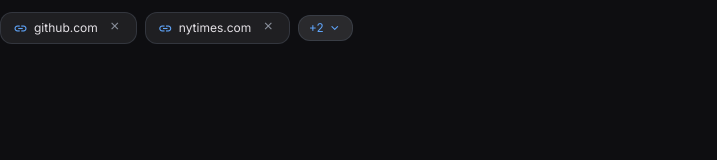
Test: AttachmentBar Component › expands all items when clicking '+N' overflow badge, and compacts back
The width and height of the screenshot is (717, 160).
// Click to expand all
Click the button with test id "attachment-overflow-pill" at (326, 28), box [298,15,353,41]
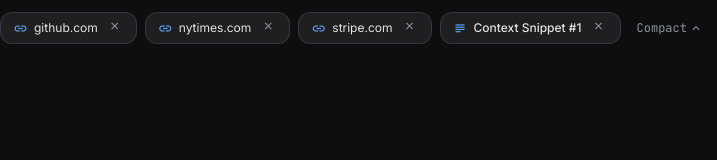
Expected: the button "stripe.com" is shown, [332,20,392,36]
Expected: the button "Context Snippet #1" is shown, [474,20,582,36]
// Click compact
Click the text "Compact" at (662, 28), box [636,20,687,36]
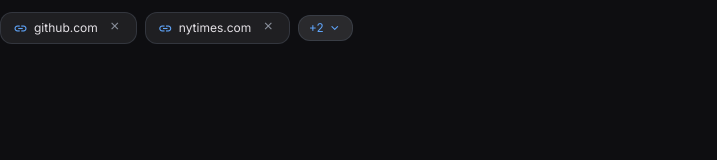
Expected: the button "stripe.com" is gone
Expected: the button with test id "attachment-overflow-pill" reads "+2", [298,15,353,41]
